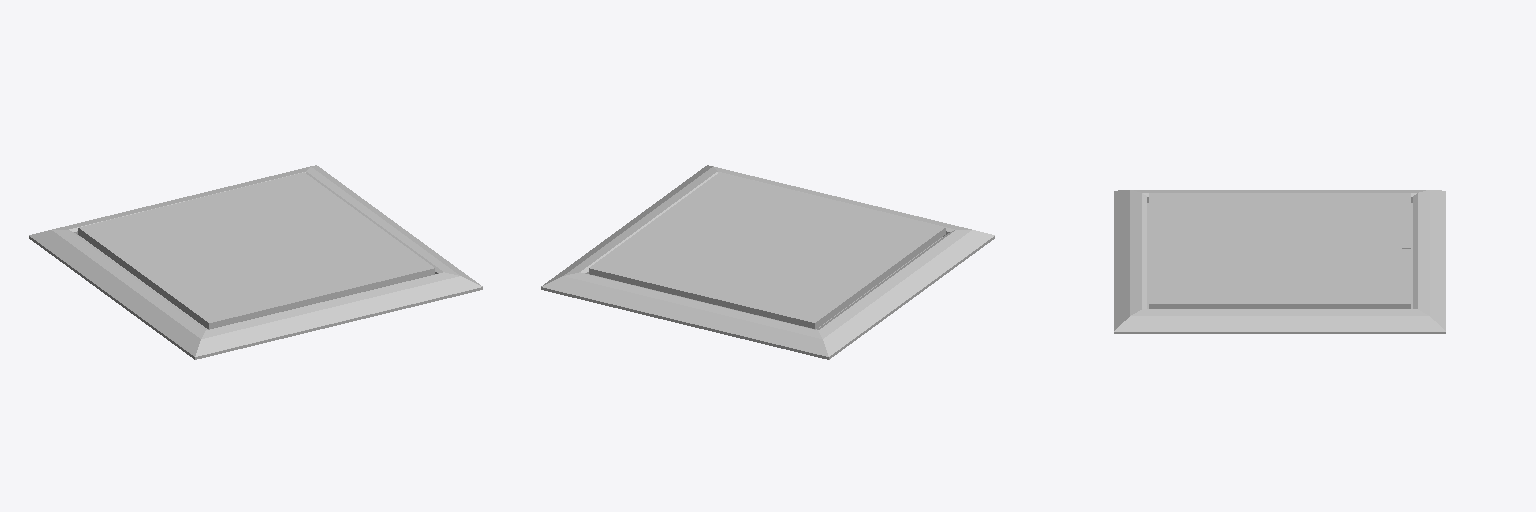
Rendered from tablero2.obj.
3 views of the same model, side by side, from view 1: azimuth 30°, elevation 25°; view 2: azimuth 150°, elevation 25°; view 3: azimuth 270°, elevation 25° (orthographic).
Visible parts, largest first — view 1: Frame_02.002, Board.004, Board.003; view 2: Frame_02.002, Board.004, Board.003; view 3: Frame_02.002, Board.003, Board.004.
Part boxes in pixels (x1,y1,x2,y2): Frame_02.002: (29, 165, 482, 359); Board.004: (78, 200, 322, 328); Board.003: (193, 172, 434, 300); Frame_02.002: (541, 165, 994, 359); Board.004: (702, 200, 945, 328); Board.003: (589, 172, 830, 301); Frame_02.002: (1114, 190, 1445, 333); Board.003: (1149, 249, 1410, 308); Board.004: (1149, 193, 1410, 248).
Size of the model in its own units: 0.61 by 0.0324 by 0.61.